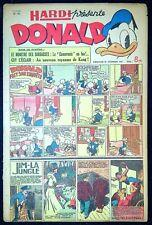paper: (3, 3, 148, 222)
